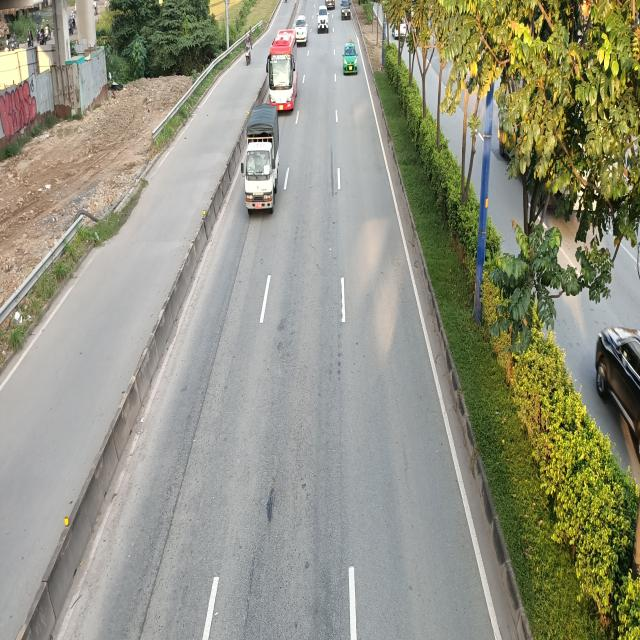car: (343, 44, 358, 76)
coach: (267, 29, 299, 113)
truck: (241, 105, 282, 213)
